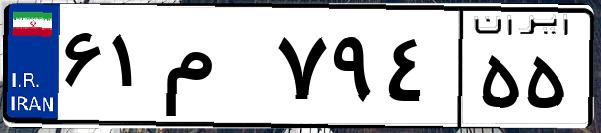1: (110, 28, 158, 98)
4: (385, 28, 445, 110)
5: (475, 38, 525, 113), (525, 38, 570, 115)
6: (57, 26, 110, 100)
7: (270, 28, 330, 110)
9: (330, 28, 385, 110)
م: (158, 20, 270, 120)
